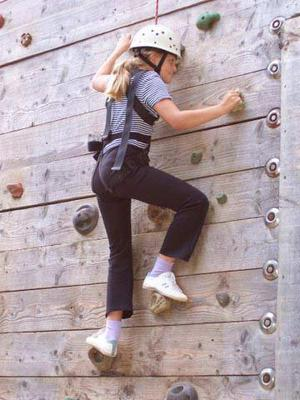person: (85, 26, 243, 360)
